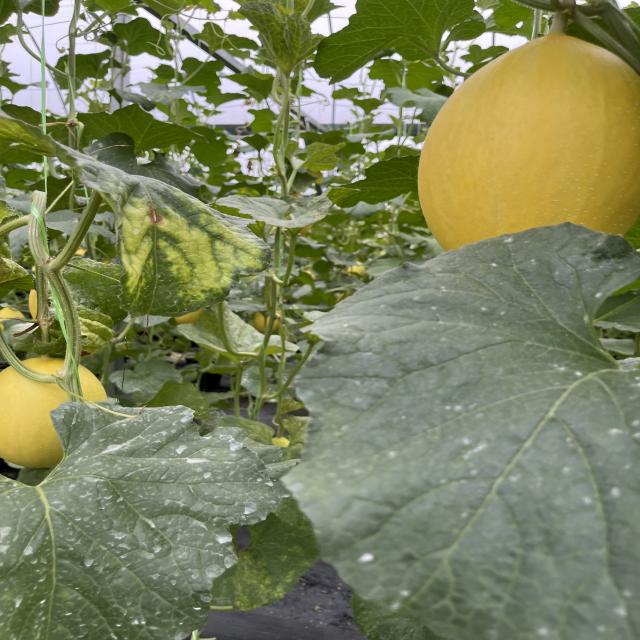downy mildew: (0, 112, 274, 321)
healthy: (275, 219, 640, 640), (0, 396, 284, 640), (314, 0, 486, 87), (332, 153, 422, 210)
